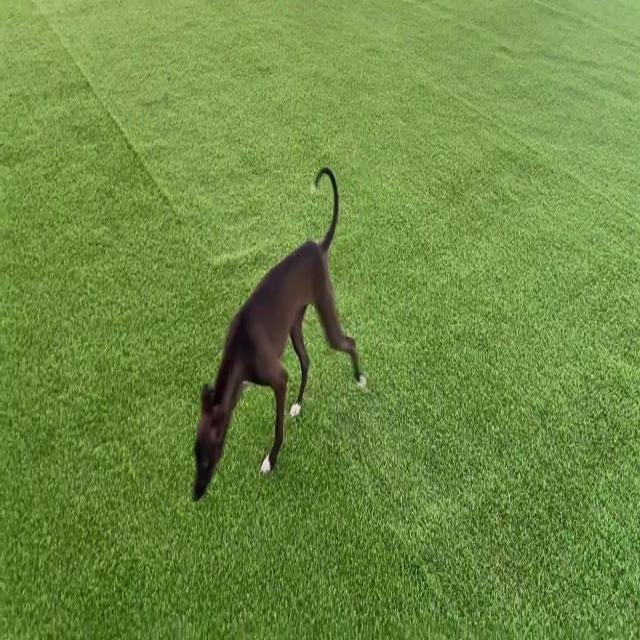Dog: (190, 164, 366, 505)
